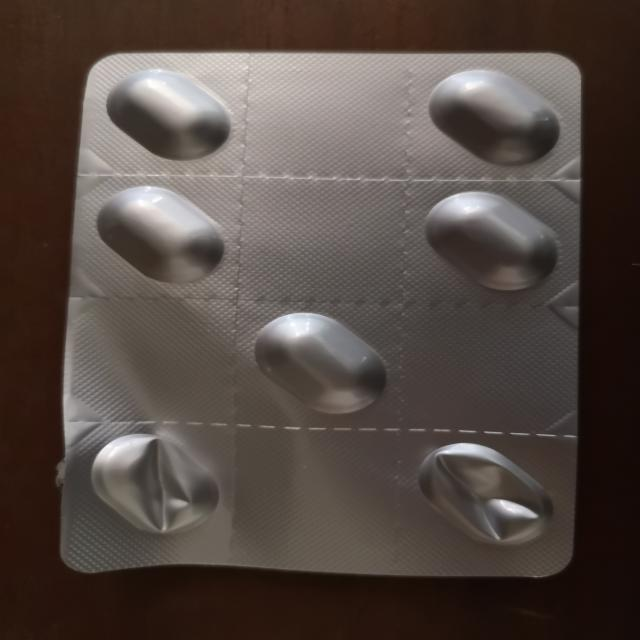Empty: (404, 437, 566, 555), (78, 426, 232, 537)
Pill: (239, 305, 398, 421), (404, 58, 568, 169), (415, 184, 572, 295), (86, 180, 232, 288), (96, 66, 236, 166)
